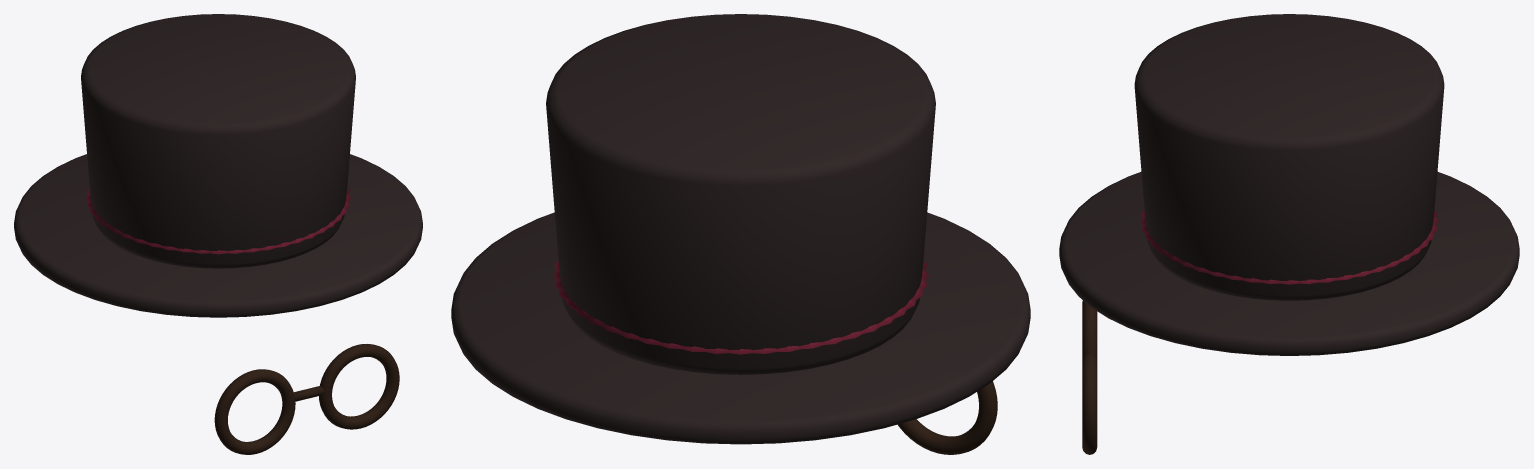
File: tophat.glb
The picture shows the model from 3 angles, left to right: view 1: azimuth 30°, elevation 25°; view 2: azimuth 150°, elevation 25°; view 3: azimuth 270°, elevation 25°; orthographic projection. The views are drawn at different scales.
Visible parts, largest first — view 1: tube, brim, Torus, Torus.001, rib; view 2: tube, brim, Torus, rib; view 3: tube, brim, Torus.001, rib, Torus.
Boxes of the visible parts, x1=… form: tube: x1=81, y1=14, x2=355, y2=268; brim: x1=14, y1=154, x2=422, y2=317; Torus: x1=214, y1=369, x2=295, y2=454; Torus.001: x1=319, y1=344, x2=399, y2=429; rib: x1=86, y1=188, x2=350, y2=254; tube: x1=546, y1=14, x2=935, y2=374; brim: x1=451, y1=212, x2=1030, y2=444; Torus: x1=897, y1=381, x2=997, y2=454; rib: x1=553, y1=261, x2=928, y2=354; tube: x1=1134, y1=14, x2=1444, y2=300; brim: x1=1059, y1=172, x2=1519, y2=355; Torus.001: x1=1082, y1=352, x2=1097, y2=454; rib: x1=1140, y1=210, x2=1438, y2=284; Torus: x1=1082, y1=300, x2=1097, y2=359.
Bounding box in the file's own units: 1.36 × 1.13 × 1.36.
